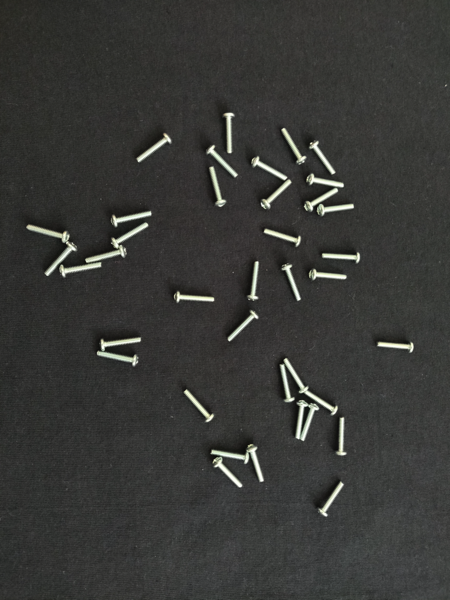longscrew: (132, 132, 176, 165), (204, 141, 242, 179), (209, 456, 248, 491), (308, 138, 339, 179), (42, 240, 76, 277), (182, 388, 216, 424), (226, 310, 259, 347), (109, 221, 151, 250), (259, 176, 294, 210), (281, 356, 311, 395), (317, 481, 348, 517), (302, 389, 340, 418), (24, 221, 74, 243), (280, 262, 305, 306), (249, 155, 290, 181), (279, 125, 305, 166), (302, 188, 341, 214), (243, 444, 268, 484), (95, 347, 141, 368), (220, 111, 240, 159), (299, 402, 322, 443), (83, 244, 129, 264), (209, 165, 229, 210), (109, 208, 155, 227), (262, 225, 303, 246), (276, 362, 296, 405), (99, 333, 145, 351), (245, 258, 262, 304), (209, 447, 252, 465), (59, 260, 104, 277), (320, 249, 367, 265), (335, 414, 352, 458), (306, 174, 349, 191), (375, 338, 417, 355), (293, 399, 309, 443), (170, 291, 221, 303), (308, 268, 351, 282), (317, 204, 359, 217)
